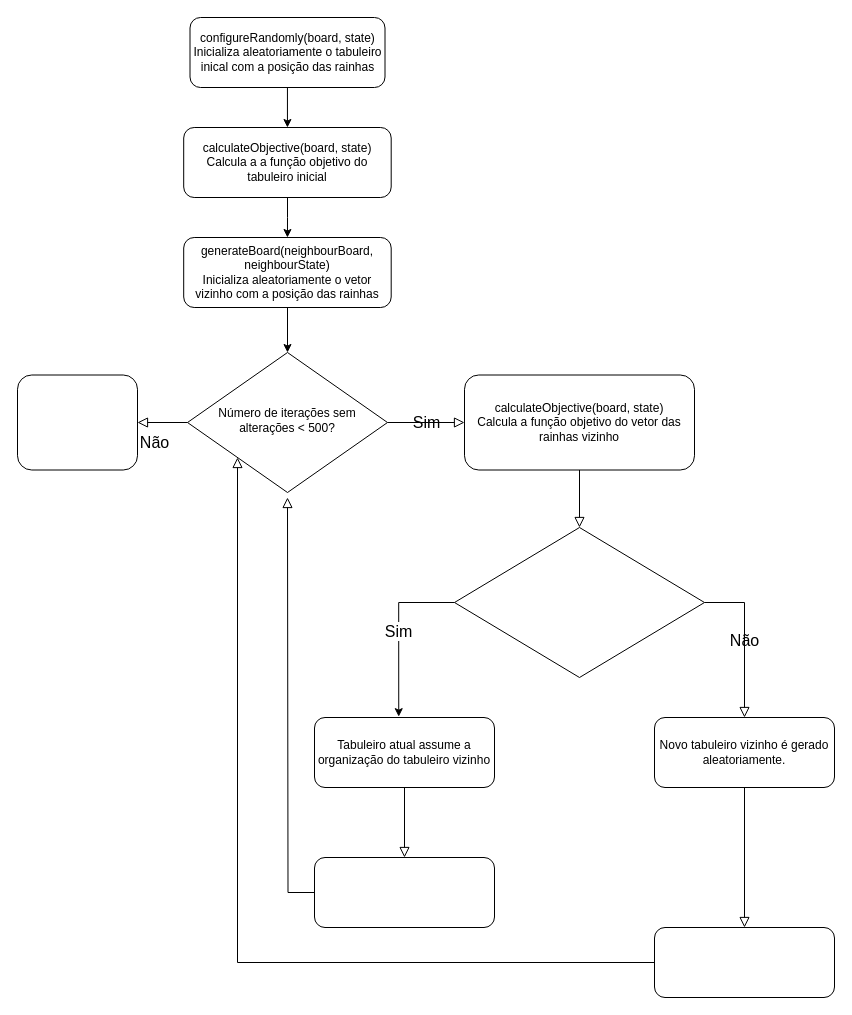
This 852x1015 diagram has some shape labels left out. Each missing label, with the centre of its shape:
"Adiciona 1 na contagem de iterações sem alteração do tabuleiro das rainhas" goes at (x=744, y=962).
"O tabuleiro do vizinho tem menos pares de rainhas se atacando?" goes at (x=579, y=602).
"Reseta contagemdo número de iterações sem alteração" goes at (x=404, y=892).
"Retorna o tabuleirodas rainhas obtido" goes at (x=77, y=422).
